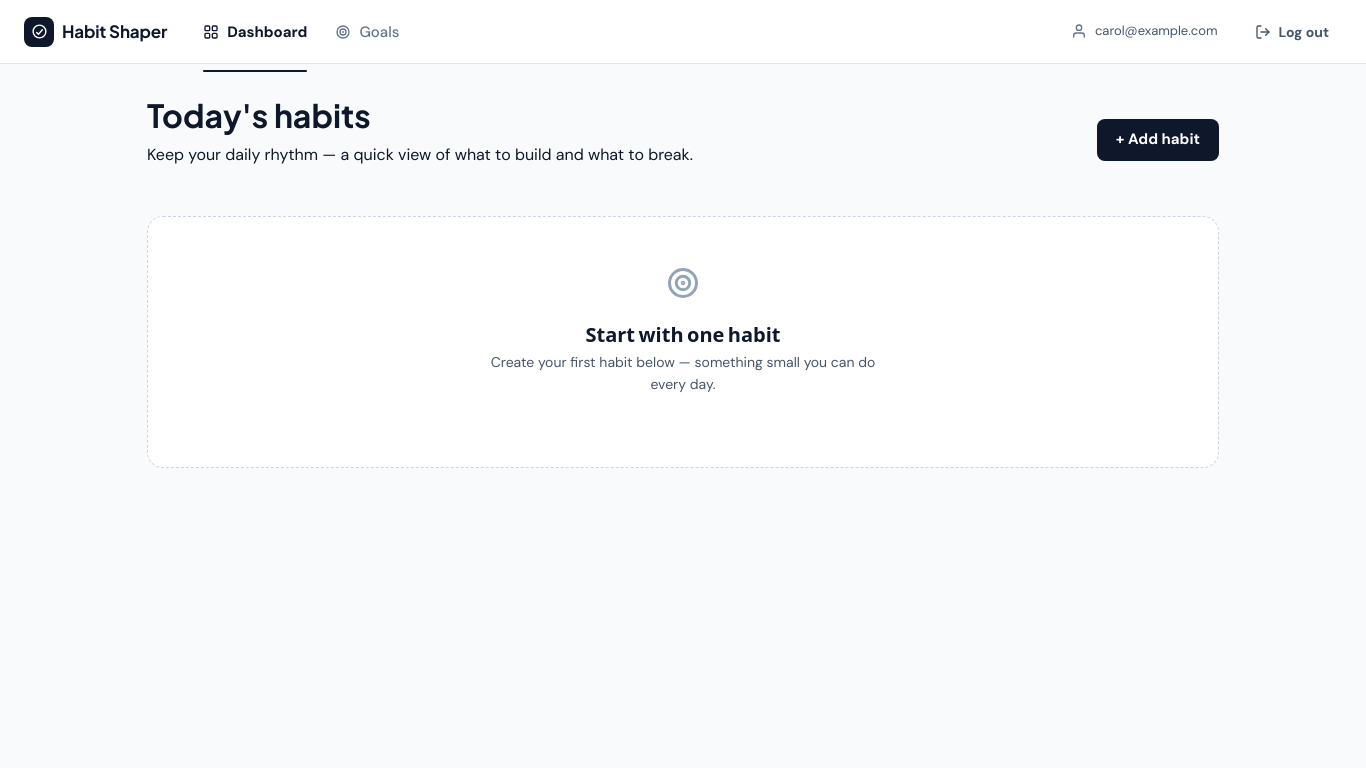
Test: Phase 7 auth flow › 9. logout clears the session and returns to login
Expected: the heading "Today's habits" is shown, [147,95,371,135]
Click the button "Log out" at (1292, 32), box [1242,16,1342,48]
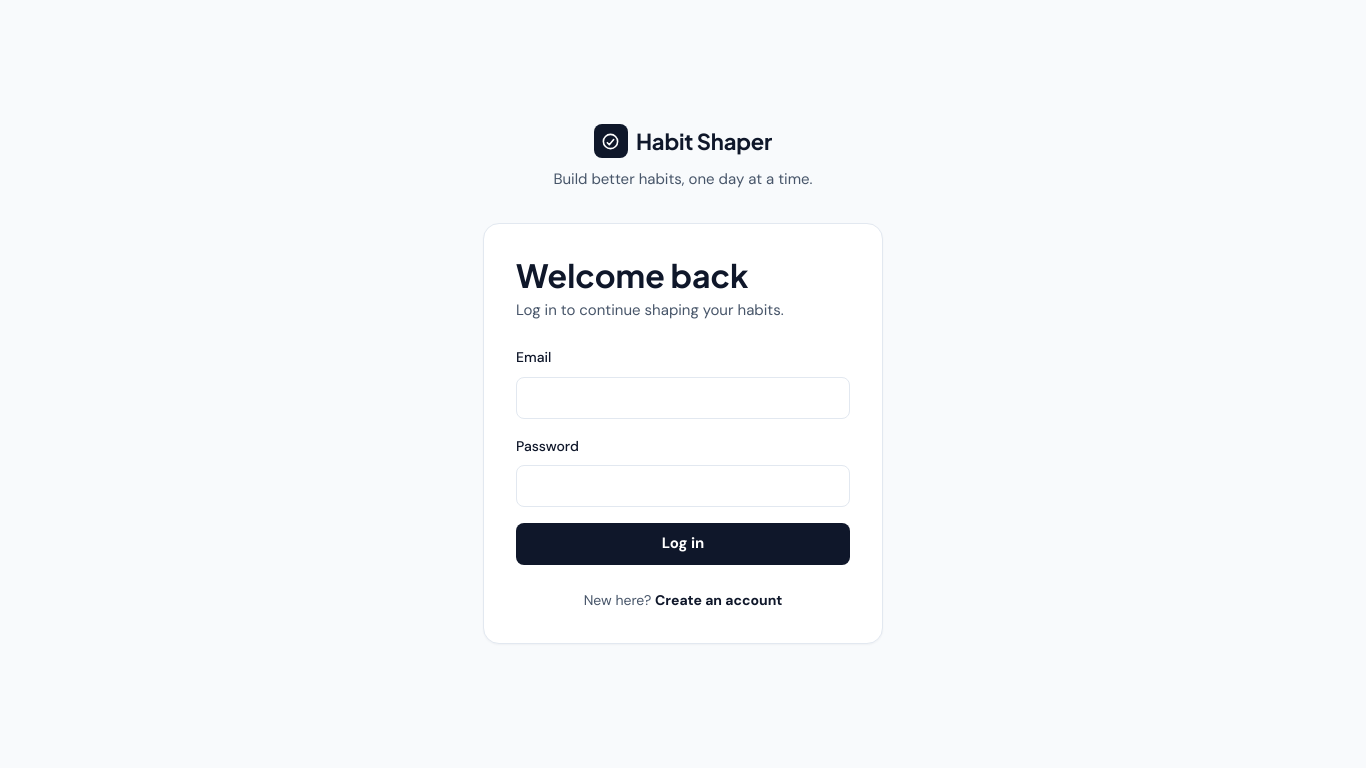
Expected: the heading "Welcome back" is shown, [516,255,748,295]
